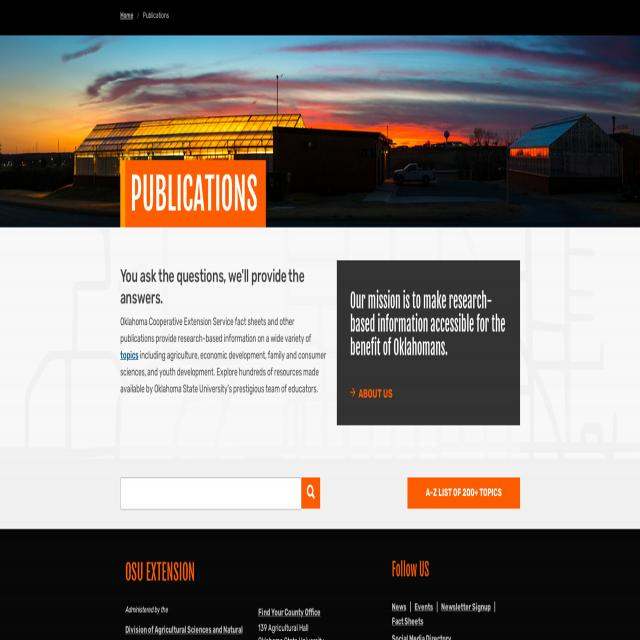button: (407, 477, 520, 509), (302, 477, 320, 510)
field: (120, 477, 302, 510)
